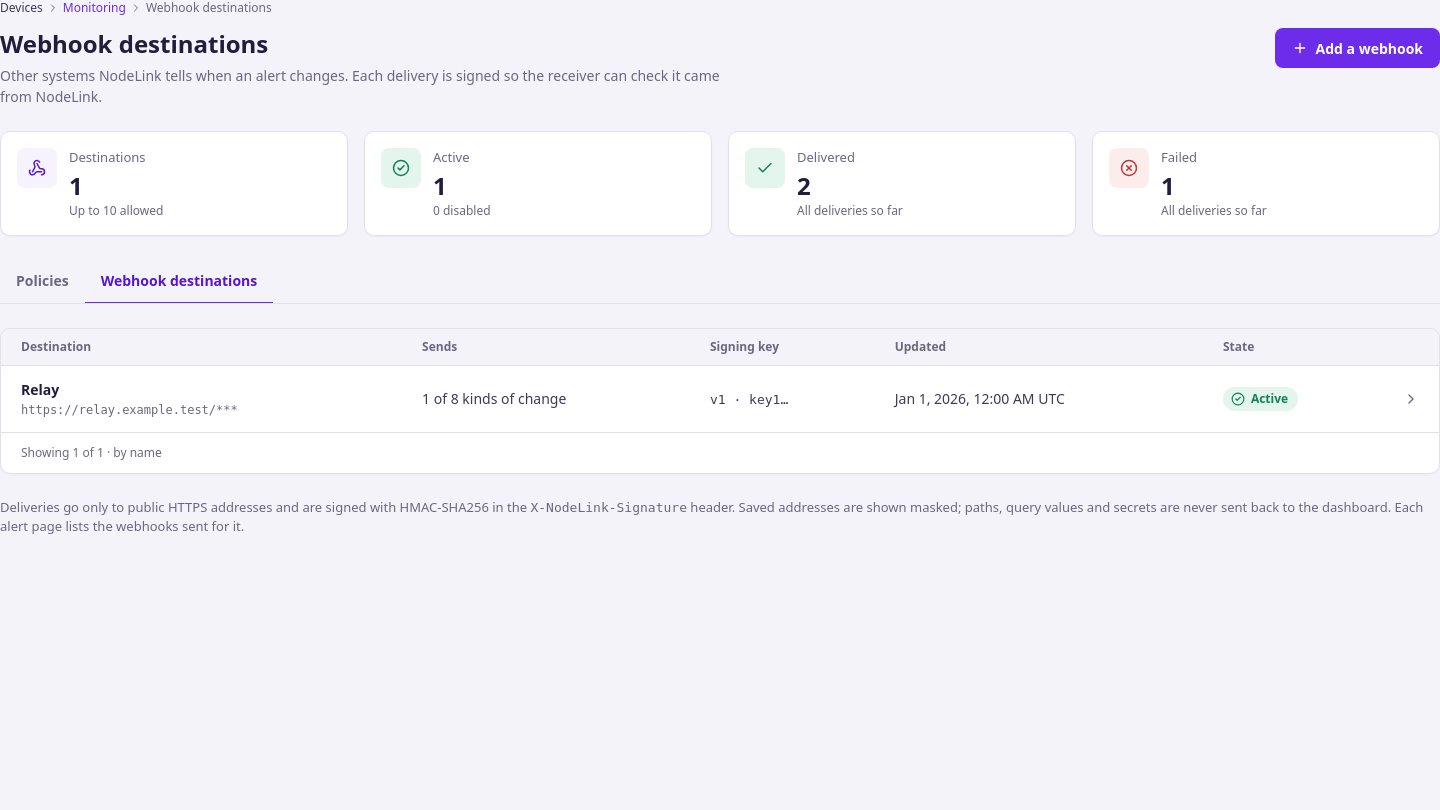
Test: webhook address validation reports the server result without claiming delivery
What coordinates should you click on to do the following:
click the row named "Open Relay"
I would click on:
 (720, 399)
Its box is [1,365,1439,432].
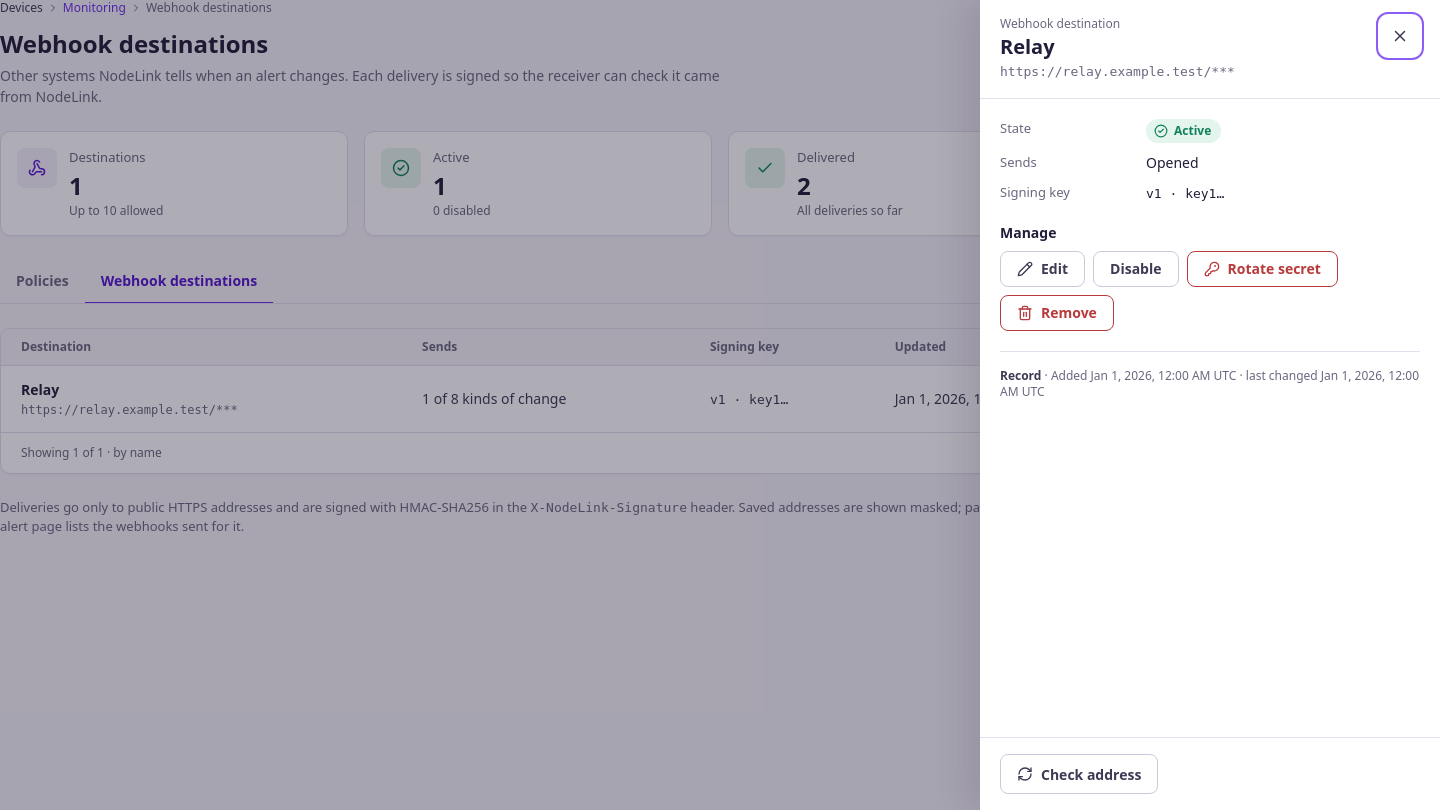
What coordinates should you click on to do the following:
click the button "Check address"
I would click on:
 (1079, 774)
Its box is [1000,754,1158,794].
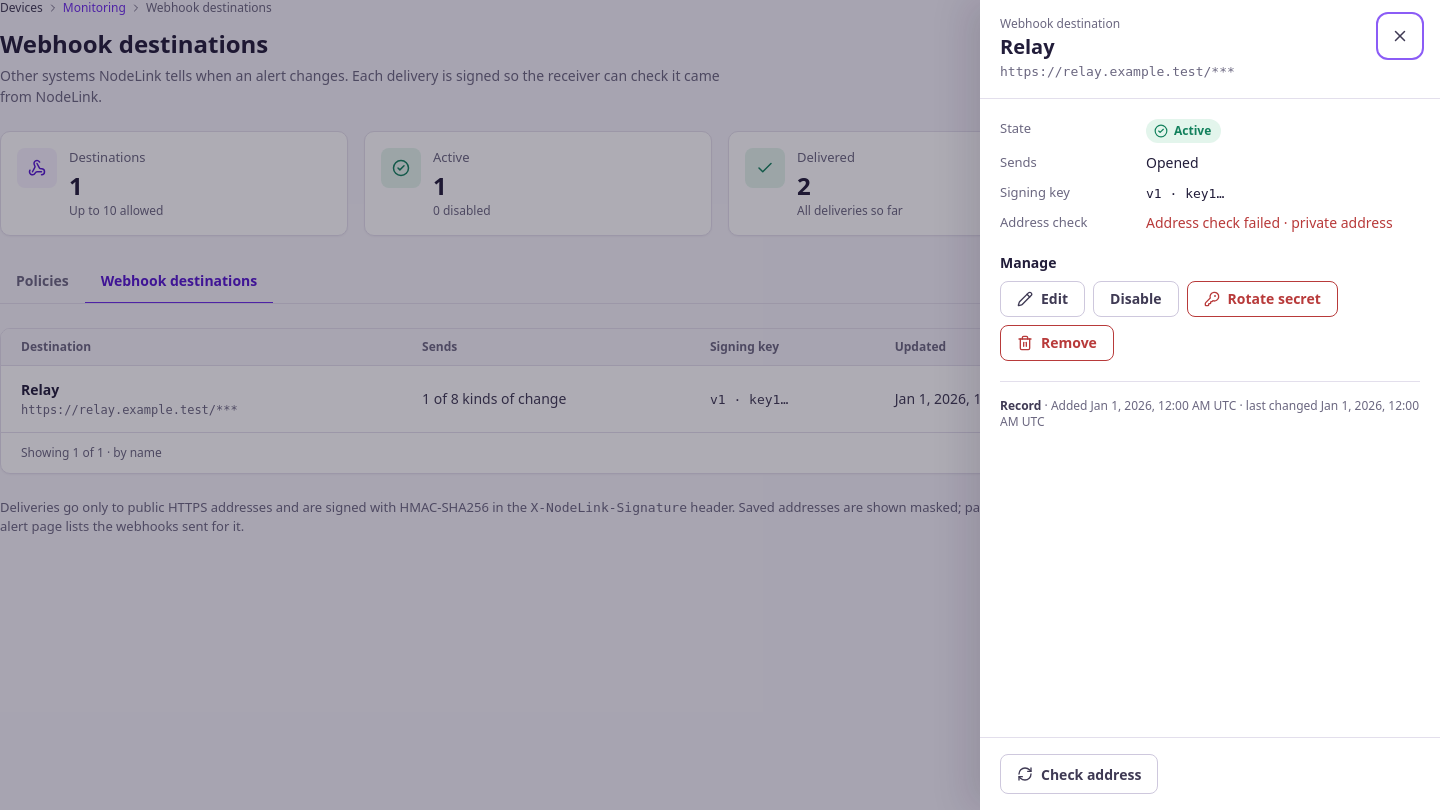
Expected: the text "Address check failed · private address" is shown, [1146,213,1393,232]
